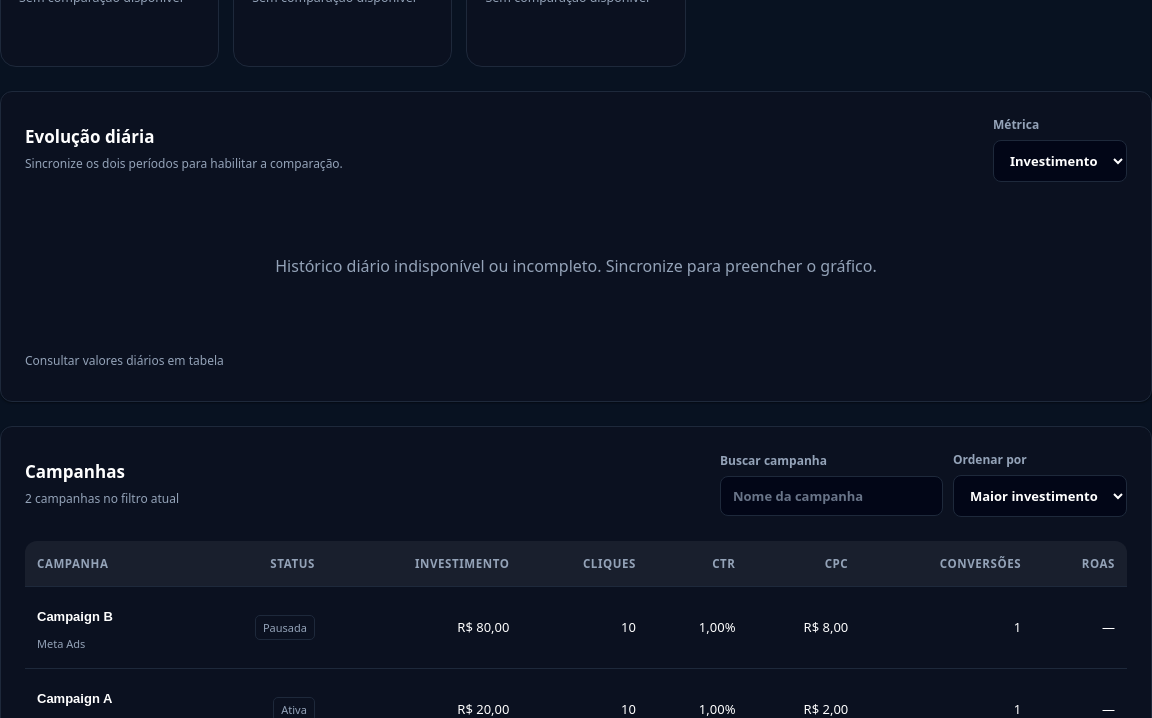
Scenario: does not turn a partial daily collection into zero or show invalid comparisons
This screenshot has width=1152, height=718.
(page scrolled)
Expected: the text "Histórico diário indisponível ou incompleto. Sincronize para preencher o gráfico." is shown, [275,255,877,277]
Step 1. Click the heading "Consultar valores diários em tabela" → (124, 360), box [25,352,224,369]
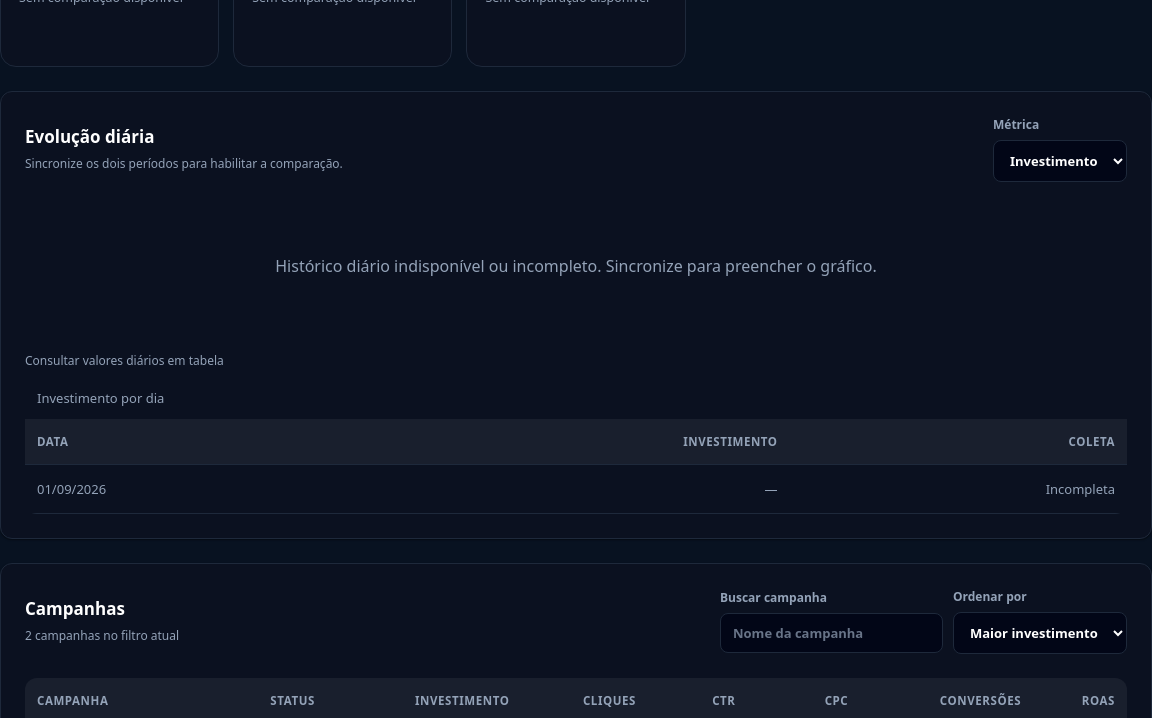
Result: the text "—" is shown at [362,464,790,514]
